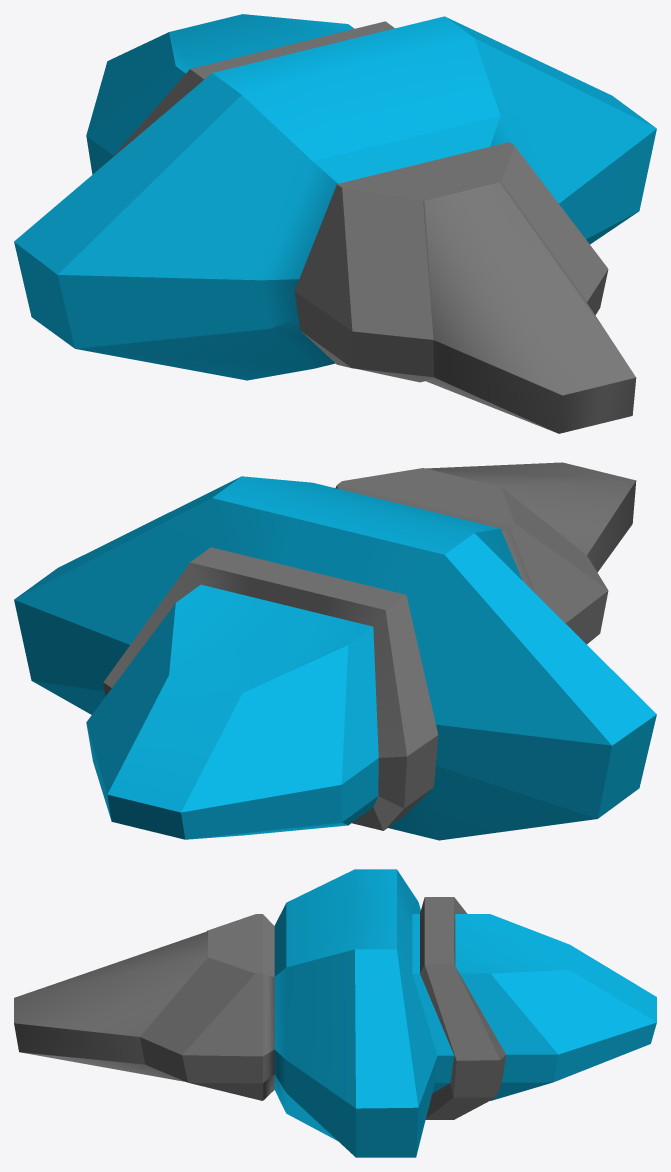
Rendered from _1Ship_PIece16.fbx.
3 views of the same model, one above another, from view 1: azimuth 30°, elevation 25°; view 2: azimuth 150°, elevation 25°; view 3: azimuth 270°, elevation 25° (orthographic). The views are drawn at different scales.
Visible parts, largest first — view 1: Ship_PIece16; view 2: Ship_PIece16; view 3: Ship_PIece16.
Part boxes in pixels (<box>): Ship_PIece16: <box>14,14,656,433</box>; Ship_PIece16: <box>14,462,656,840</box>; Ship_PIece16: <box>14,869,656,1157</box>.
Size of the model in its own units: 434 by 199 by 571.
